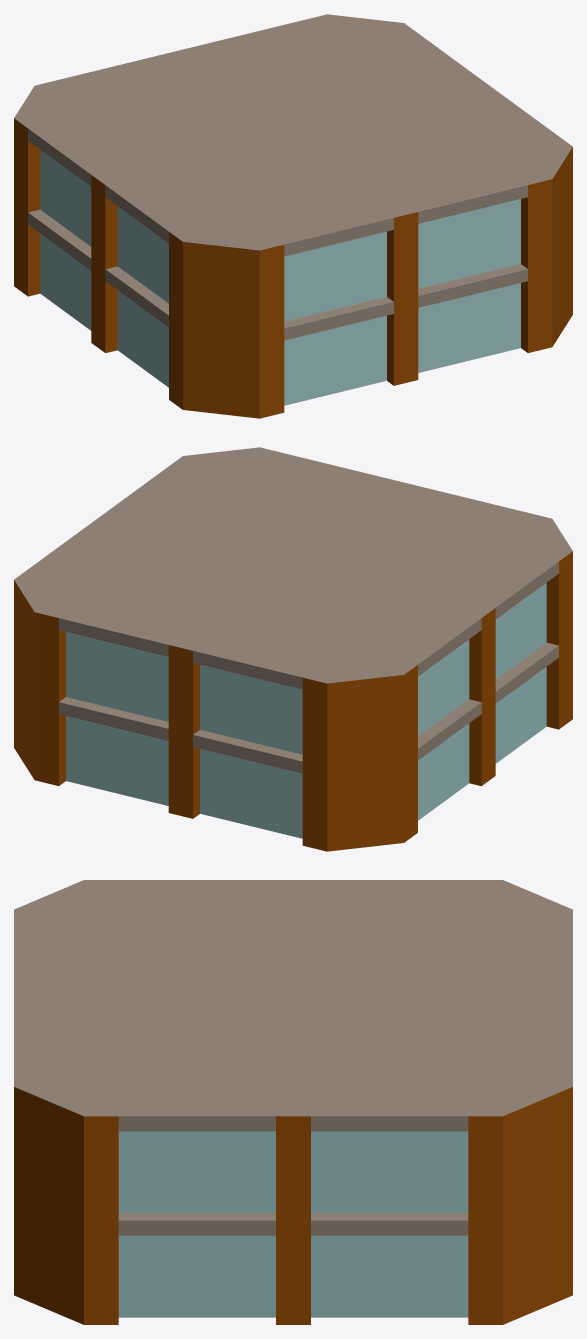
File: building1-tower.dae
The picture shows the model from 3 angles, top to bottom: view 1: azimuth 30°, elevation 25°; view 2: azimuth 150°, elevation 25°; view 3: azimuth 270°, elevation 25°; orthographic projection. The views are drawn at different scales.
Parts seen in each view (by area): view 1: SketchUp (×18); view 2: SketchUp (×18); view 3: SketchUp (×10).
Boxes of the visible parts, <box> form: SketchUp (×18): <box>14,14,572,418</box>; SketchUp (×18): <box>14,447,572,851</box>; SketchUp (×10): <box>14,880,572,1324</box>.
Size of the model in its own units: 33.46 by 33.46 by 13.78.
